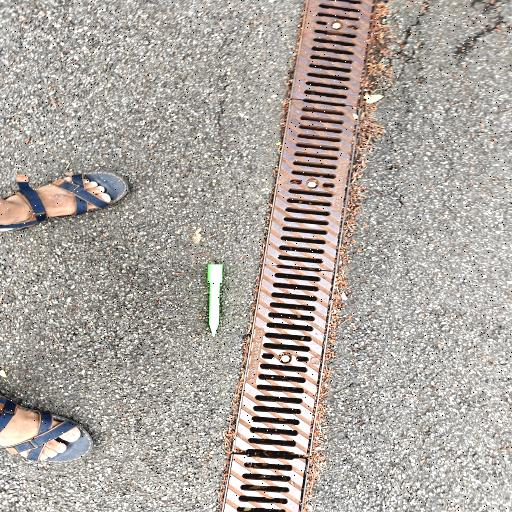Probe-Detection: (207, 264, 223, 336)
